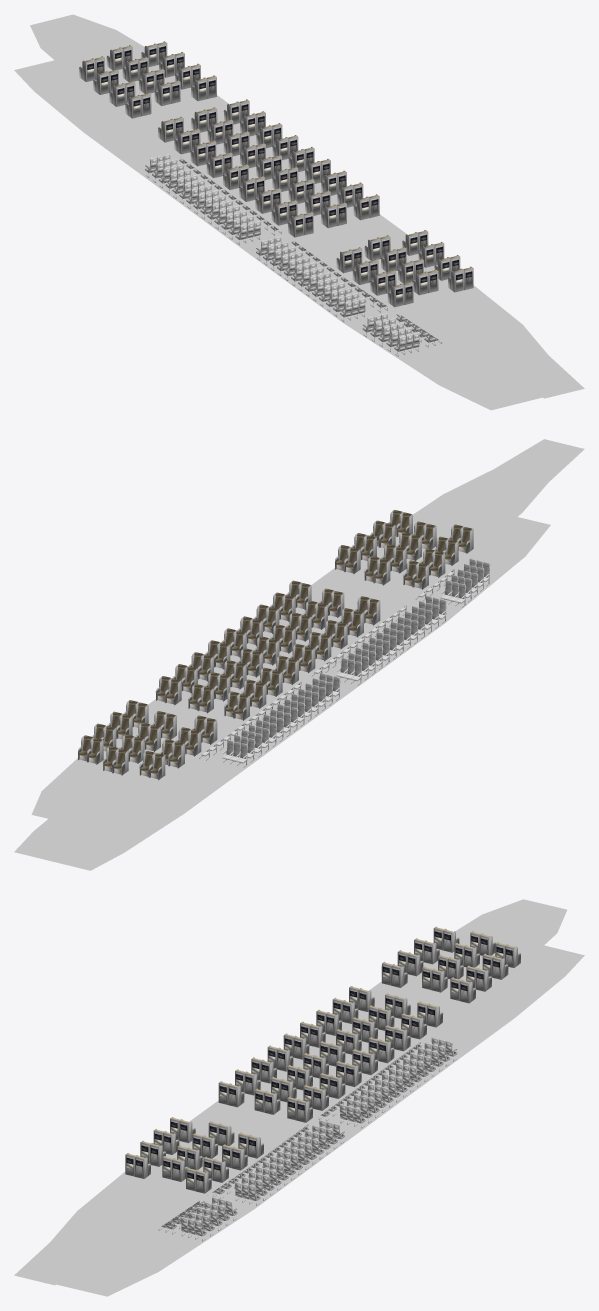
The picture shows the model from 3 angles, top to bottom: view 1: azimuth 30°, elevation 25°; view 2: azimuth 150°, elevation 25°; view 3: azimuth 330°, elevation 25°; orthographic projection.
Visible parts, largest first — view 1: static-material-1, static-material-0; view 2: static-material-1, static-material-0; view 3: static-material-1, static-material-0.
Boxes of the visible parts, x1,y1,x2,y2 form: static-material-1: (14,14,584,410); static-material-0: (79,41,473,307); static-material-1: (14,439,584,870); static-material-0: (78,510,473,780); static-material-1: (14,899,584,1296); static-material-0: (125,926,520,1193).
Size of the model in its own units: 6.74 by 3.98 by 59.27.
Materials: 2 (1 with a texture image).
